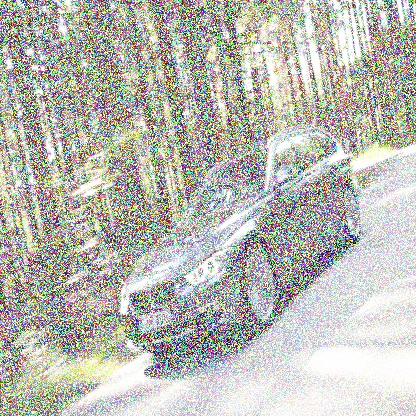Vehicle: (121, 125, 363, 358)
